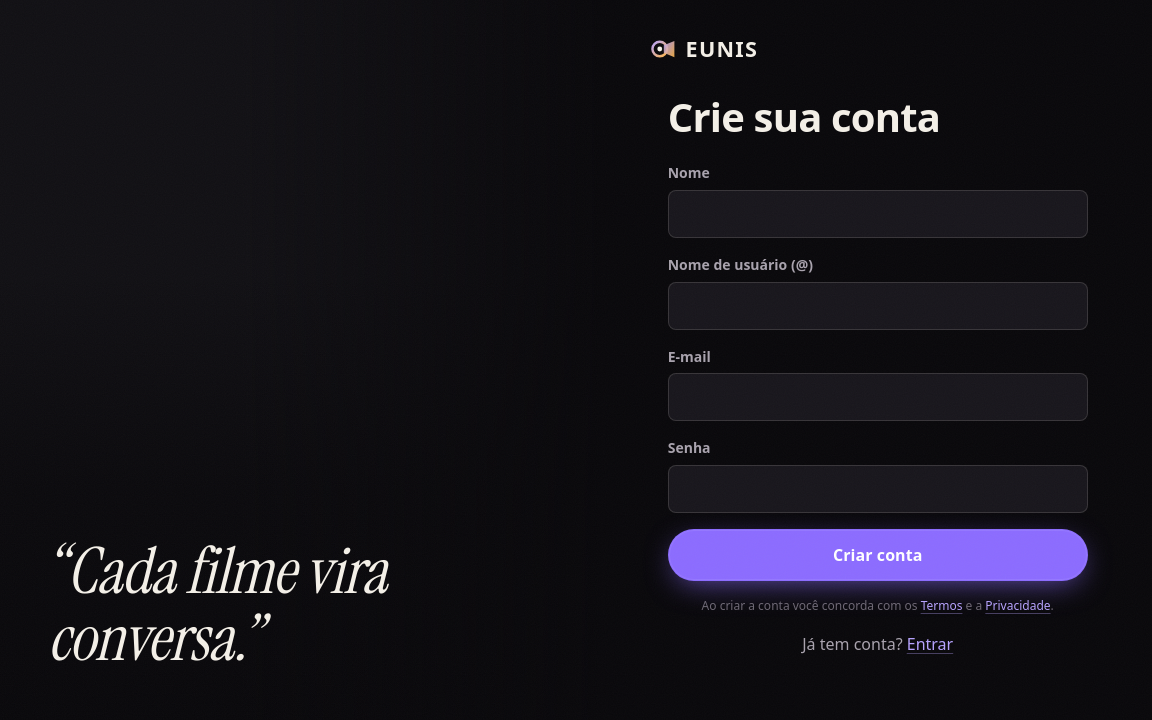
Test case: Cadastro › valida no cliente antes de enviar
What coordinates should you click on to do the following:
click the button "Criar conta"
I would click on:
 (878, 555)
Its box is [668,529,1088,581].
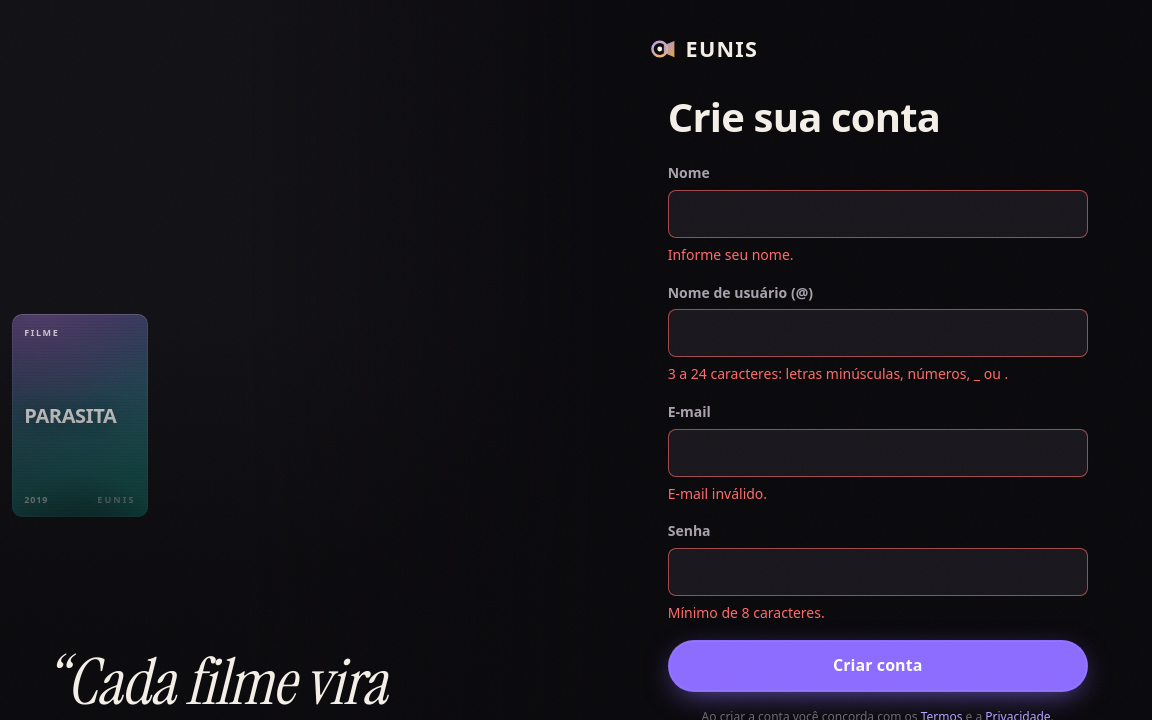
Check: the text "Informe seu nome." is shown, box [668,245,794,264]
Check: the text "E-mail inválido." is shown, box [668,484,767,503]
